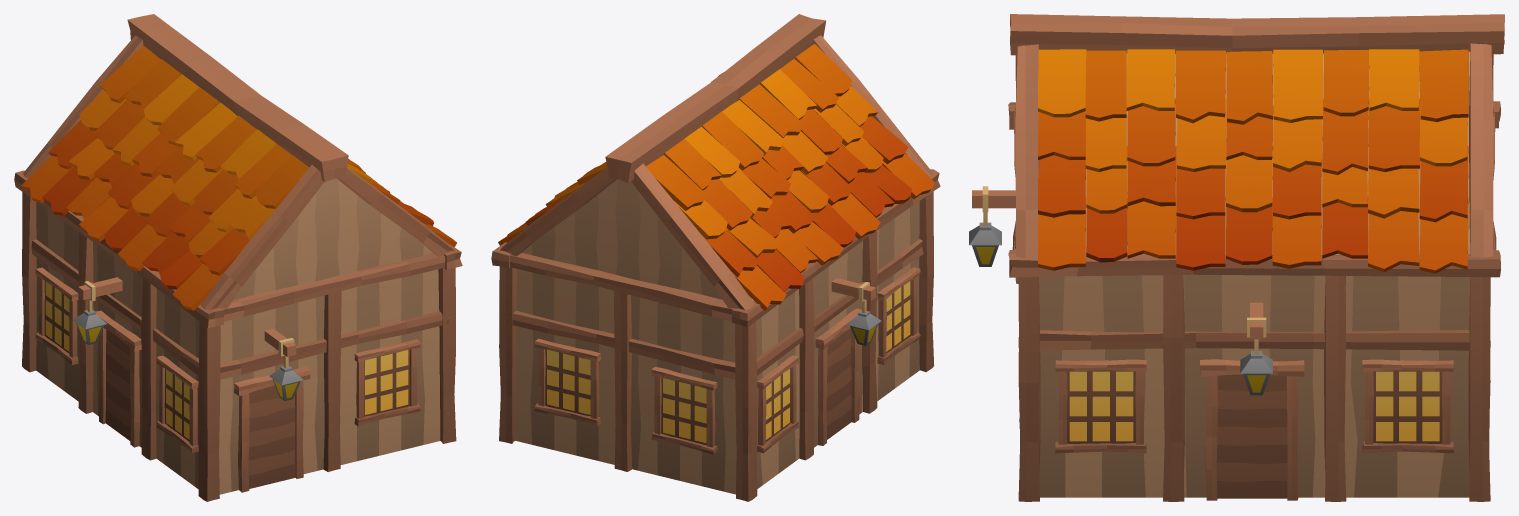
The model's file is pirate-house-2.glb.
3 views of the same model, side by side, from view 1: azimuth 30°, elevation 25°; view 2: azimuth 150°, elevation 25°; view 3: azimuth 270°, elevation 25° (orthographic). The views are drawn at different scales.
Parts seen in each view (by area): view 1: pirate house 2; view 2: pirate house 2; view 3: pirate house 2.
Part boxes in pixels (x1,y1,x2,y2): pirate house 2: (14,14,462,501); pirate house 2: (491,14,940,501); pirate house 2: (969,14,1504,501).
Bounding box in the file's own units: 6.48 × 6.13 × 7.41.
1 material, 1 textured.
